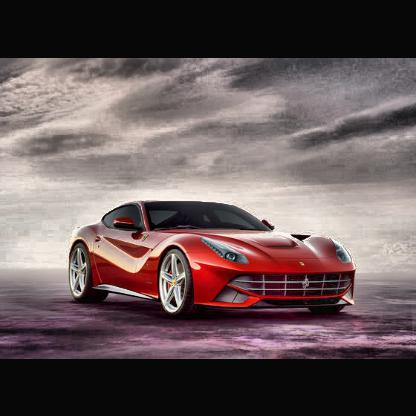Ferrari FF Coupe 2012: (69, 199, 357, 323)
